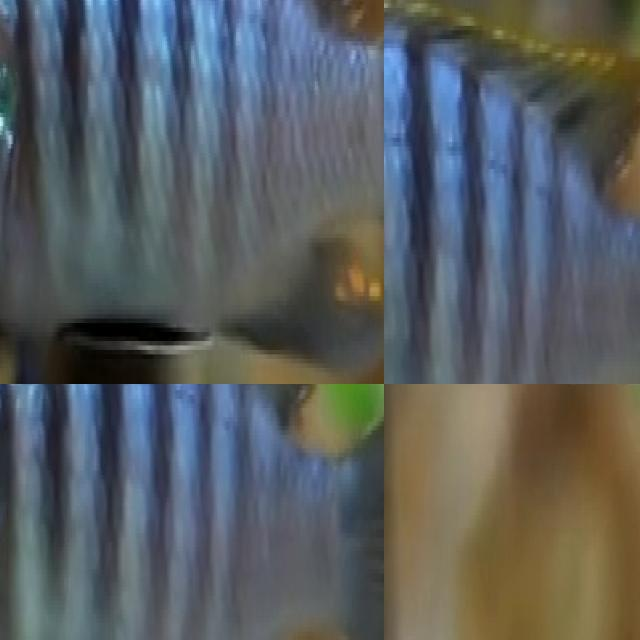fish: (0, 0, 384, 384), (384, 0, 640, 384), (0, 384, 384, 640), (526, 430, 640, 640)
